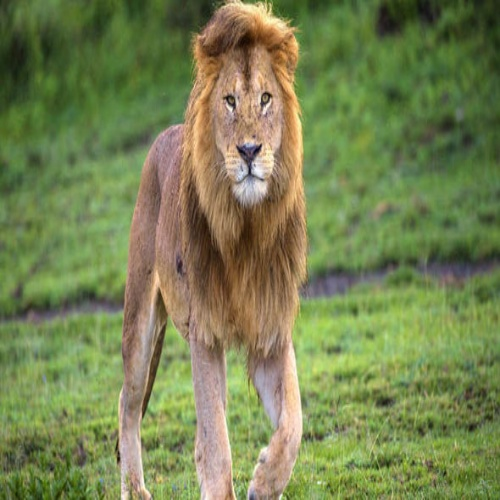lion: (118, 3, 347, 498)
